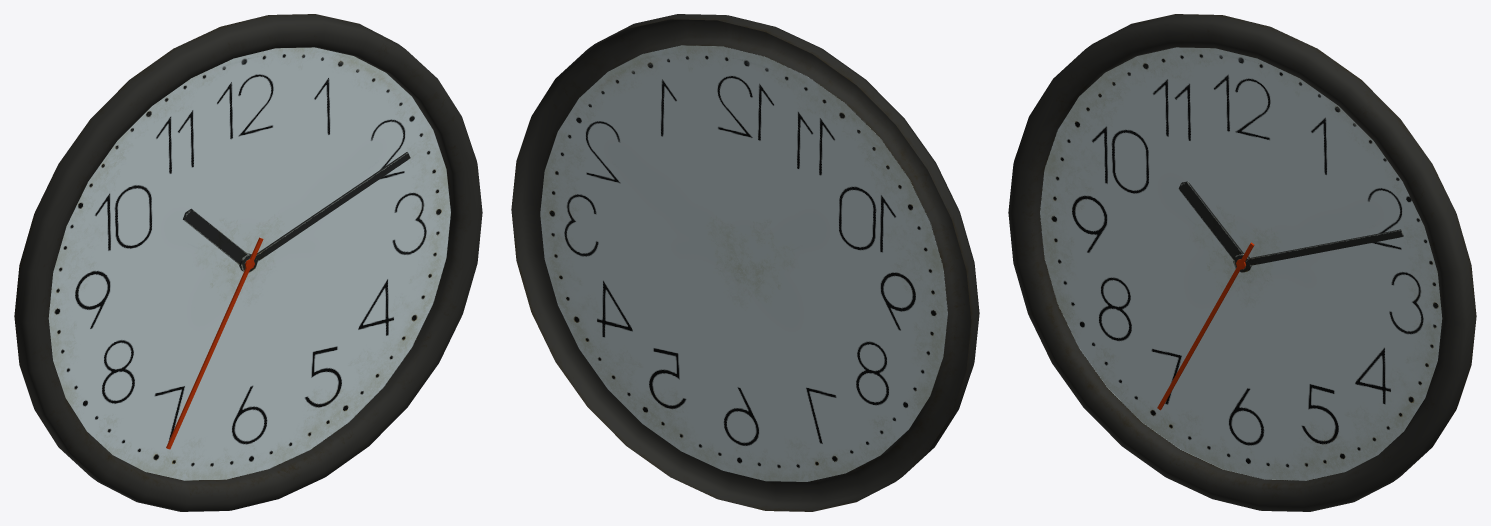
Rendered from Clock01.FBX.
3 views of the same model, side by side, from view 1: azimuth 30°, elevation 25°; view 2: azimuth 150°, elevation 25°; view 3: azimuth 330°, elevation 25° (orthographic).
Parts seen in each view (by area): view 1: Clock01_LOD0; view 2: Clock01_LOD0; view 3: Clock01_LOD0.
Part boxes in pixels (box(x1,y1,x2,y2)): Clock01_LOD0: box(14, 14, 482, 511); Clock01_LOD0: box(511, 14, 979, 511); Clock01_LOD0: box(1008, 14, 1476, 511).
Size of the model in its own units: 34 by 1.5 by 33.81.
